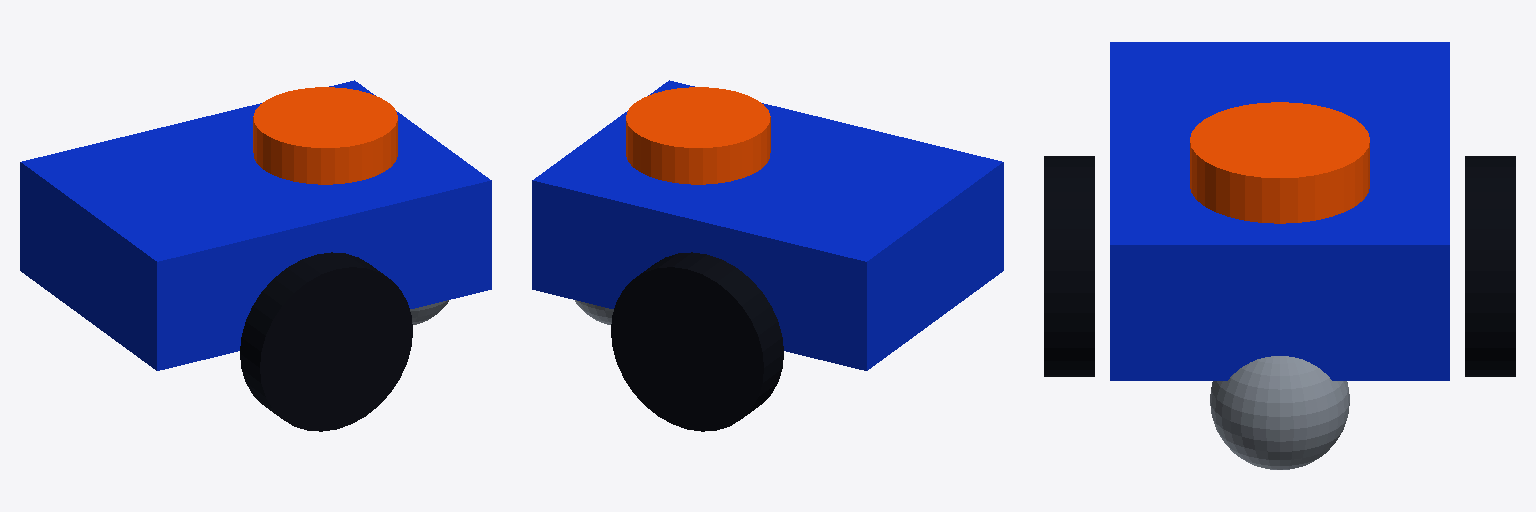
URDF robot description (ws2_g2):
<?xml version="1.0"?>
<robot name="ws2_g2">
  <material name="azul"><color rgba="0.07 0.24 0.87 1"/></material>
  <material name="naranja"><color rgba="1 0.37 0.04 1"/></material>
  <material name="negro"><color rgba="0.08 0.09 0.12 1"/></material>
  <material name="gris"><color rgba="0.55 0.58 0.62 1"/></material>
  <link name="base_footprint"/>
  <joint name="footprint_to_base" type="fixed"><parent link="base_footprint"/><child link="base_link"/><origin xyz="0 0 0.065"/></joint>
  <link name="base_link">
    <inertial><mass value="1.4"/><origin xyz="0 0 0"/><inertia ixx="0.009" iyy="0.014" izz="0.018" ixy="0" ixz="0" iyz="0"/></inertial>
    <visual><origin xyz="0 0 0.025"/><geometry><box size="0.24 0.17 0.075"/></geometry><material name="azul"/></visual>
    <collision><origin xyz="0 0 0.025"/><geometry><box size="0.24 0.17 0.075"/></geometry></collision>
  </link>
  <link name="left_wheel">
    <inertial><mass value="0.16"/><inertia ixx="0.00012" iyy="0.00007" izz="0.00012" ixy="0" ixz="0" iyz="0"/></inertial>
    <visual><origin rpy="1.570796327 0 0"/><geometry><cylinder radius="0.055" length="0.025"/></geometry><material name="negro"/></visual>
    <collision><origin rpy="1.570796327 0 0"/><geometry><cylinder radius="0.055" length="0.025"/></geometry></collision>
  </link>
  <joint name="left_wheel_joint" type="continuous"><parent link="base_link"/><child link="left_wheel"/><origin xyz="-0.01 0.105 -0.01"/><axis xyz="0 1 0"/></joint>
  <link name="right_wheel">
    <inertial><mass value="0.16"/><inertia ixx="0.00012" iyy="0.00007" izz="0.00012" ixy="0" ixz="0" iyz="0"/></inertial>
    <visual><origin rpy="1.570796327 0 0"/><geometry><cylinder radius="0.055" length="0.025"/></geometry><material name="negro"/></visual>
    <collision><origin rpy="1.570796327 0 0"/><geometry><cylinder radius="0.055" length="0.025"/></geometry></collision>
  </link>
  <joint name="right_wheel_joint" type="continuous"><parent link="base_link"/><child link="right_wheel"/><origin xyz="-0.01 -0.105 -0.01"/><axis xyz="0 1 0"/></joint>
  <link name="caster">
    <inertial><mass value="0.035"/><inertia ixx="0.00002" iyy="0.00002" izz="0.00002" ixy="0" ixz="0" iyz="0"/></inertial>
    <visual><geometry><sphere radius="0.035"/></geometry><material name="gris"/></visual>
    <collision><geometry><sphere radius="0.035"/></geometry></collision>
  </link>
  <joint name="caster_joint" type="fixed"><parent link="base_link"/><child link="caster"/><origin xyz="0.105 0 -0.03"/></joint>
  <link name="lidar_decorativo"><visual><geometry><cylinder radius="0.045" length="0.025"/></geometry><material name="naranja"/></visual></link>
  <joint name="lidar_fixed" type="fixed"><parent link="base_link"/><child link="lidar_decorativo"/><origin xyz="0.05 0 0.075"/></joint>
  <gazebo reference="base_link"><material>Gazebo/Blue</material></gazebo>
  <gazebo reference="left_wheel"><material>Gazebo/Black</material><mu1>1.0</mu1><mu2>1.0</mu2></gazebo>
  <gazebo reference="right_wheel"><material>Gazebo/Black</material><mu1>1.0</mu1><mu2>1.0</mu2></gazebo>
  <gazebo reference="lidar_decorativo"><material>Gazebo/Orange</material></gazebo>
  <gazebo><plugin filename="gz-sim-diff-drive-system" name="gz::sim::systems::DiffDrive">
    <left_joint>left_wheel_joint</left_joint><right_joint>right_wheel_joint</right_joint>
    <wheel_separation>0.21</wheel_separation><wheel_radius>0.055</wheel_radius>
    <topic>/cmd_vel</topic><odom_topic>/odom</odom_topic><frame_id>odom</frame_id><child_frame_id>base_footprint</child_frame_id>
    <odom_publish_frequency>30</odom_publish_frequency>
  </plugin></gazebo>
</robot>

--- What the picture shows (computed from the rendered views, not written in the file) ---
Views: 3 orthographic renders of the robot side by side, from view 1: azimuth 30°, elevation 25°; view 2: azimuth 150°, elevation 25°; view 3: azimuth 270°, elevation 25°.
Model ws2_g2 with 6 links and 5 joints (2 continuous, 3 fixed), rooted at base_footprint, posed every joint at zero.
Visible links, largest first — view 1: base_link, right_wheel, lidar_decorativo; view 2: base_link, left_wheel, lidar_decorativo; view 3: base_link, lidar_decorativo, caster, left_wheel, right_wheel.
Link boxes in pixels (box(x1,y1,x2,y2)): base_link: box(20, 80, 491, 370); right_wheel: box(240, 252, 412, 431); lidar_decorativo: box(253, 87, 397, 184); base_link: box(532, 80, 1003, 370); left_wheel: box(611, 252, 783, 431); lidar_decorativo: box(626, 87, 770, 184); base_link: box(1110, 42, 1449, 380); lidar_decorativo: box(1190, 102, 1369, 223); caster: box(1210, 356, 1349, 469); left_wheel: box(1465, 156, 1515, 376); right_wheel: box(1044, 156, 1094, 376).
Bounding box of the posed robot: 0.26 × 0.235 × 0.1525 m (x, y, z).
Geometry: primitives only (box / cylinder / sphere), no mesh files.
